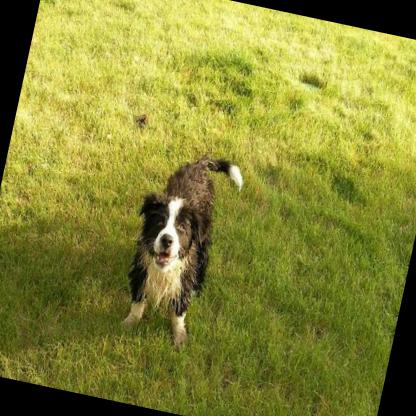Border_collie: (111, 140, 247, 351)
